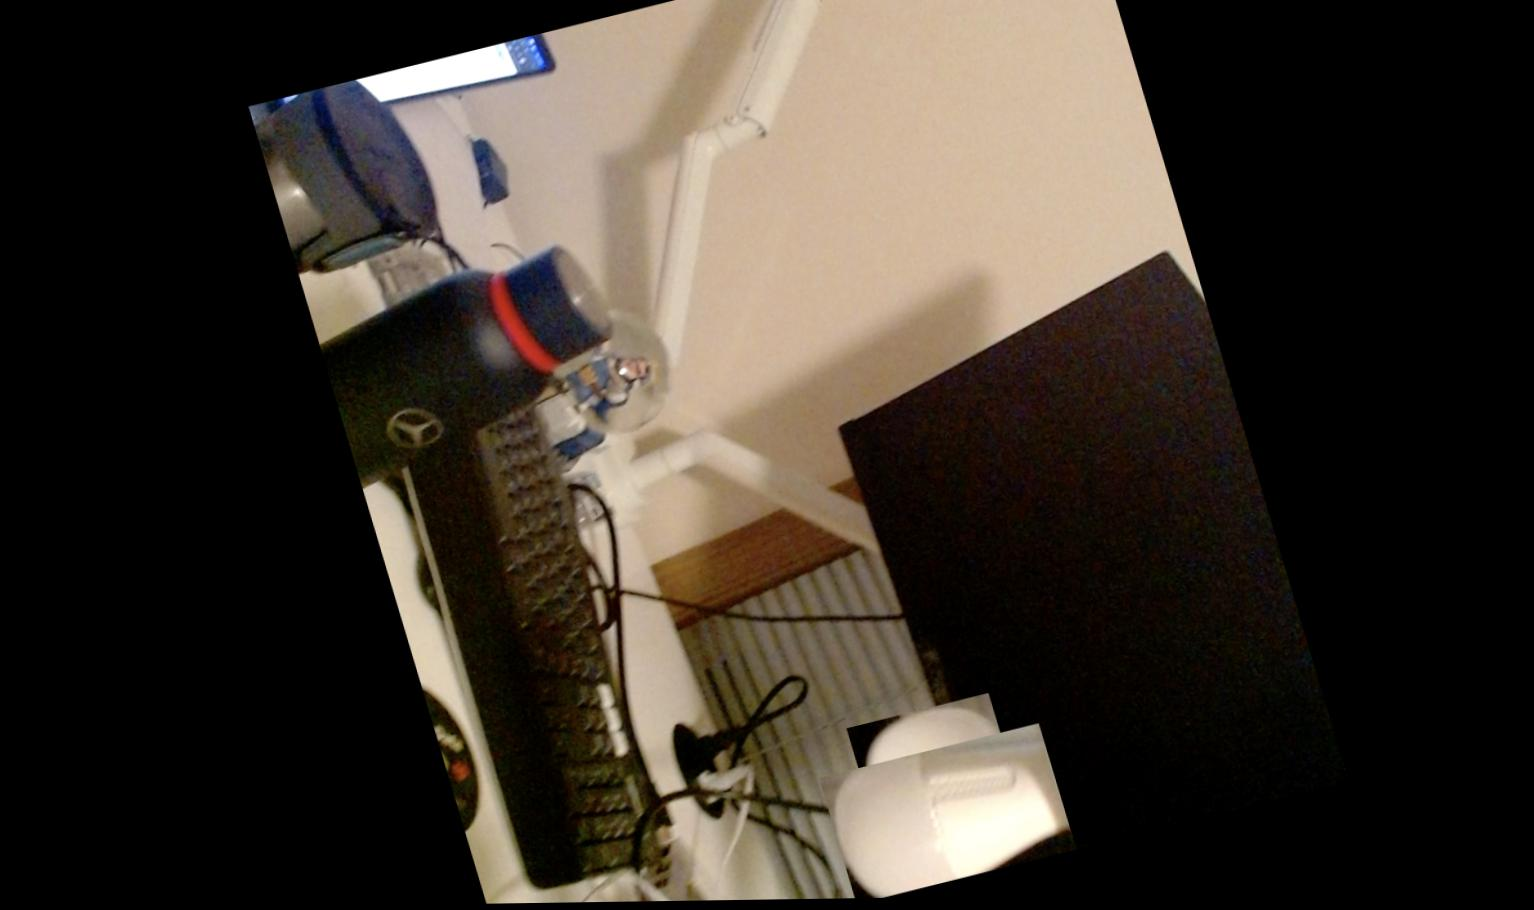Fan: (818, 711, 1046, 901)
